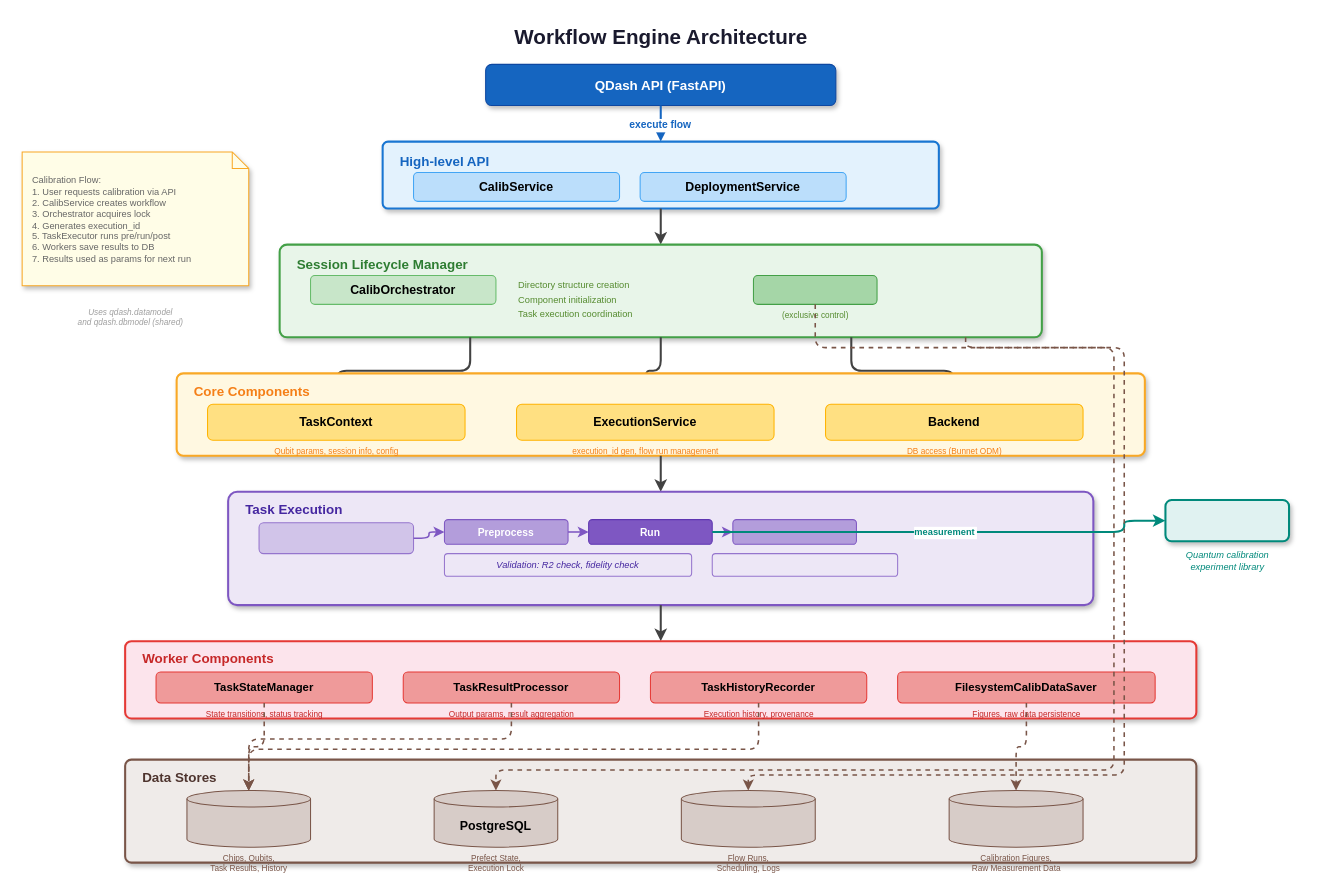
Image size: 1328x891. Some labels were removed from this diagram. Each missing label, with the centre of its shape:
"Execution Lock" goes at pixel 814 289.
"Filesystem" goes at pixel 1015 818.
"MongoDB" goes at pixel 248 818.
"Postprocess" goes at pixel 794 531.
"Prefect Server" goes at pixel 747 818.
"qubex" goes at pixel 1228 521.
"Saving: figures, raw data" goes at pixel 804 564.
"TaskExecutor" goes at pixel 336 538.
